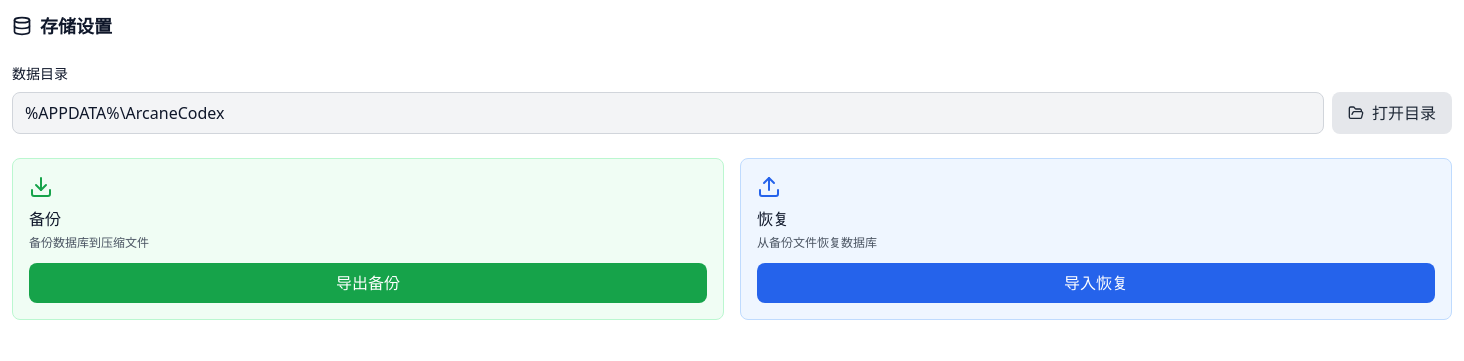
it: StorageConfig › 备份失败时应显示错误消息
Click the button "导出备份" at (368, 283), box left=29, top=263, right=707, bottom=303
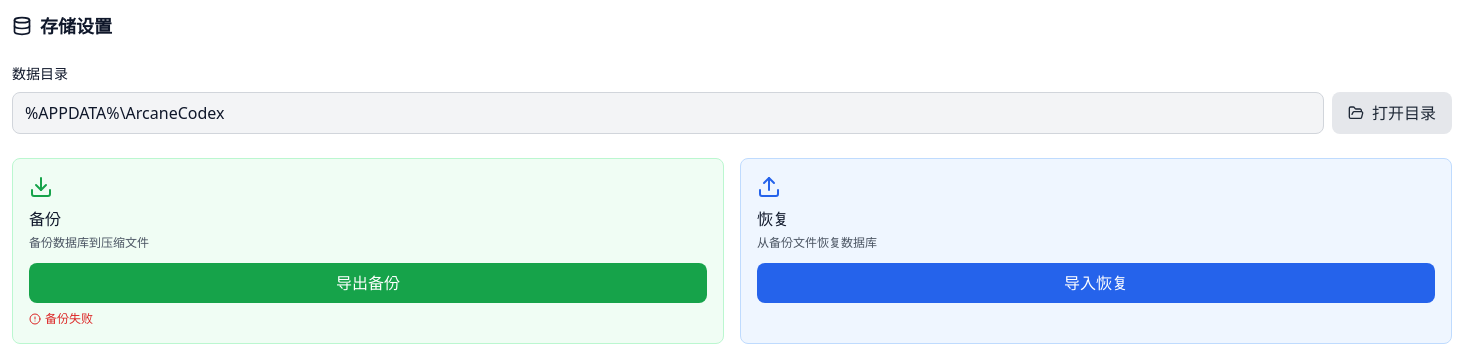
Expected: the text "备份失败" is shown, left=29, top=310, right=93, bottom=327
